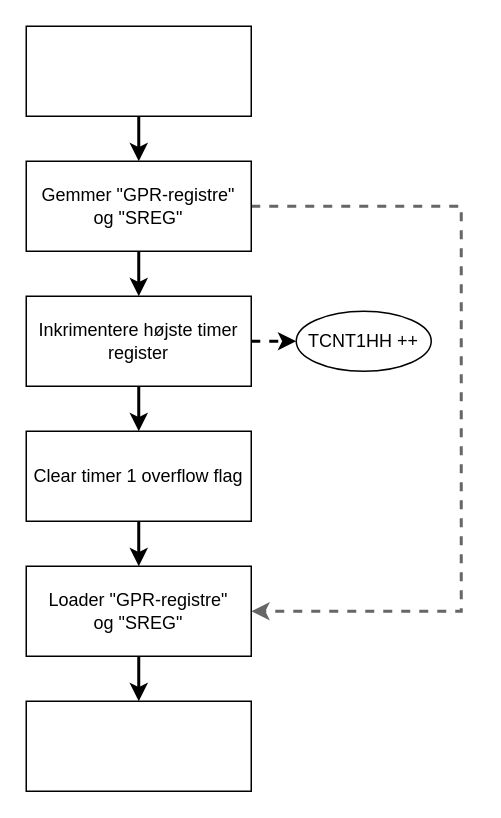
Image size: 501x818. Some labels were removed from this diagram. Here are the shapes that lost their labels. From the top down, the box of each, then its label:
(25, 25, 251, 116): Timer 1 overflow (TOV1)
(25, 700, 251, 791): Return
